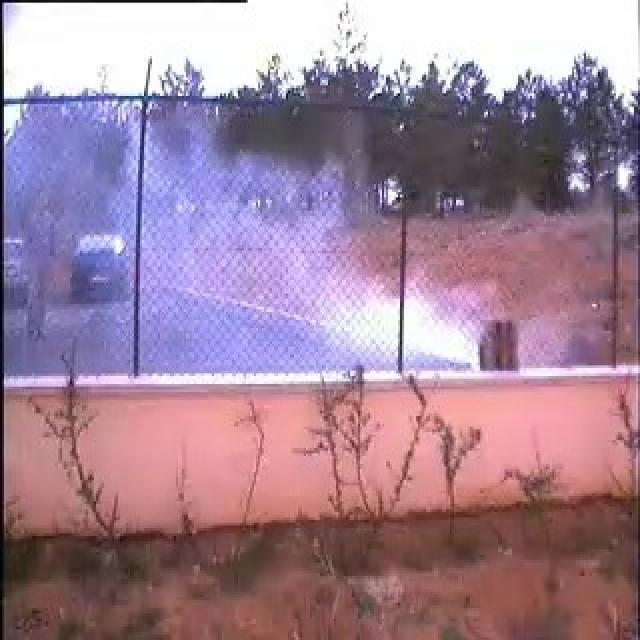Smoke: (146, 150, 481, 371)
